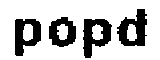d: (117, 6, 151, 50)
o: (48, 17, 75, 50)
p: (10, 16, 42, 60), (82, 19, 112, 59)
